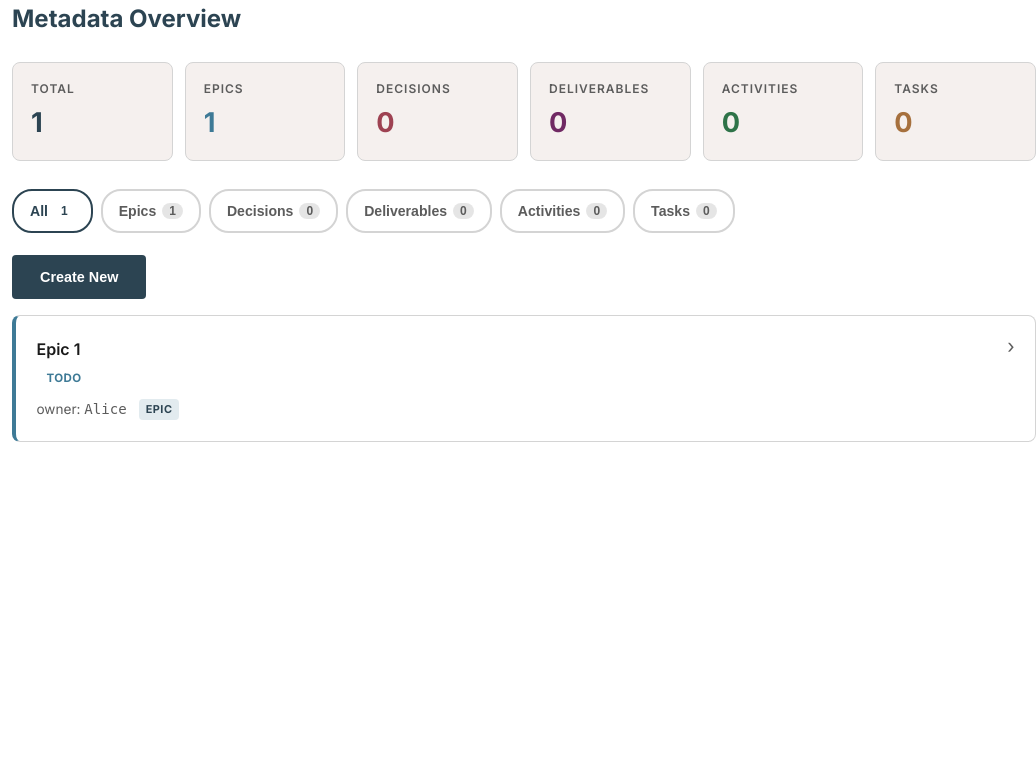
Test case: OverviewPage Integration Tests › displays epic cards with all metadata fields
Expected: the text "Epic 1" is shown, x1=36 y1=337 x2=80 y2=362
Expected: the text "Alice" is shown, x1=84 y1=401 x2=127 y2=417
Click the button "Epic 1 › TODO owner: Alice EPIC": {"x": 58, "y": 349} x1=12 y1=315 x2=1035 y2=442
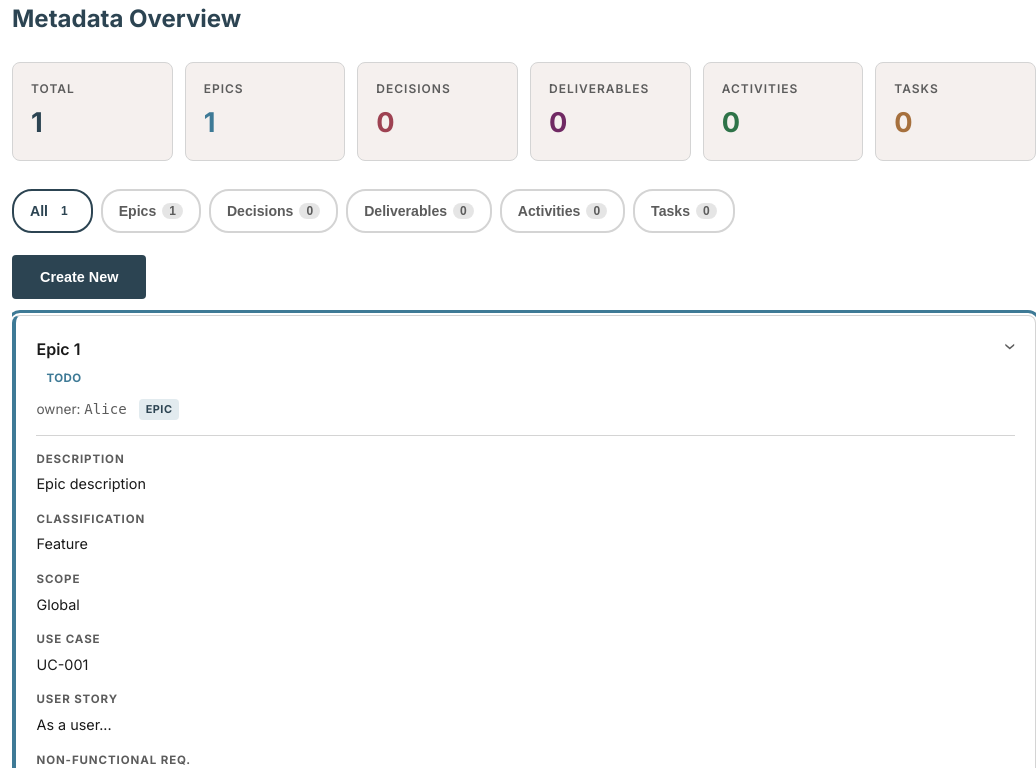
Result: the text "Epic description" is shown at x1=36 y1=475 x2=146 y2=492
